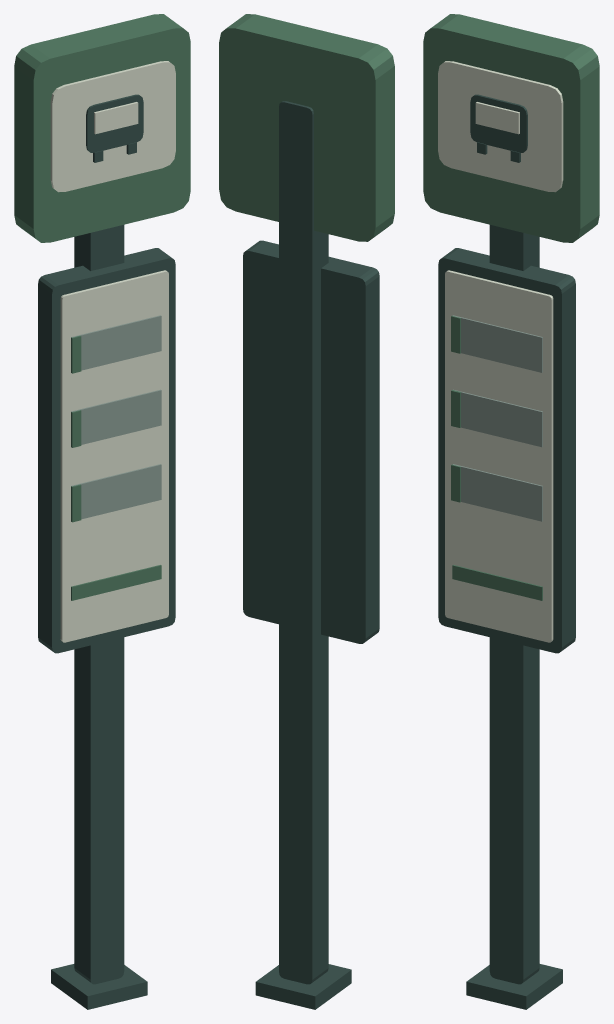
File: bus-stop-v1.glb
3 renders of one model, left to right at view 1: azimuth 30°, elevation 25°; view 2: azimuth 150°, elevation 25°; view 3: azimuth 330°, elevation 25°, orthographic.
Visible parts, largest first — view 1: 버스정류장 표지 기둥; view 2: 버스정류장 표지 기둥; view 3: 버스정류장 표지 기둥.
Boxes of the visible parts, x1,y1,x2,y2 form: 버스정류장 표지 기둥: (14,14,190,1009); 버스정류장 표지 기둥: (219,14,394,1009); 버스정류장 표지 기둥: (423,14,599,1009).
Bounding box in the file's own units: 0.42 × 2.44 × 0.17.
